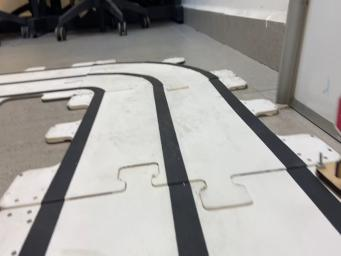stop: (317, 91, 341, 191), (317, 91, 341, 191), (317, 91, 341, 191), (317, 91, 341, 191), (317, 91, 341, 191), (317, 91, 341, 191)
street: (0, 59, 341, 256), (0, 59, 341, 256), (0, 59, 341, 256), (0, 59, 341, 256), (0, 59, 341, 256), (0, 59, 341, 256)
